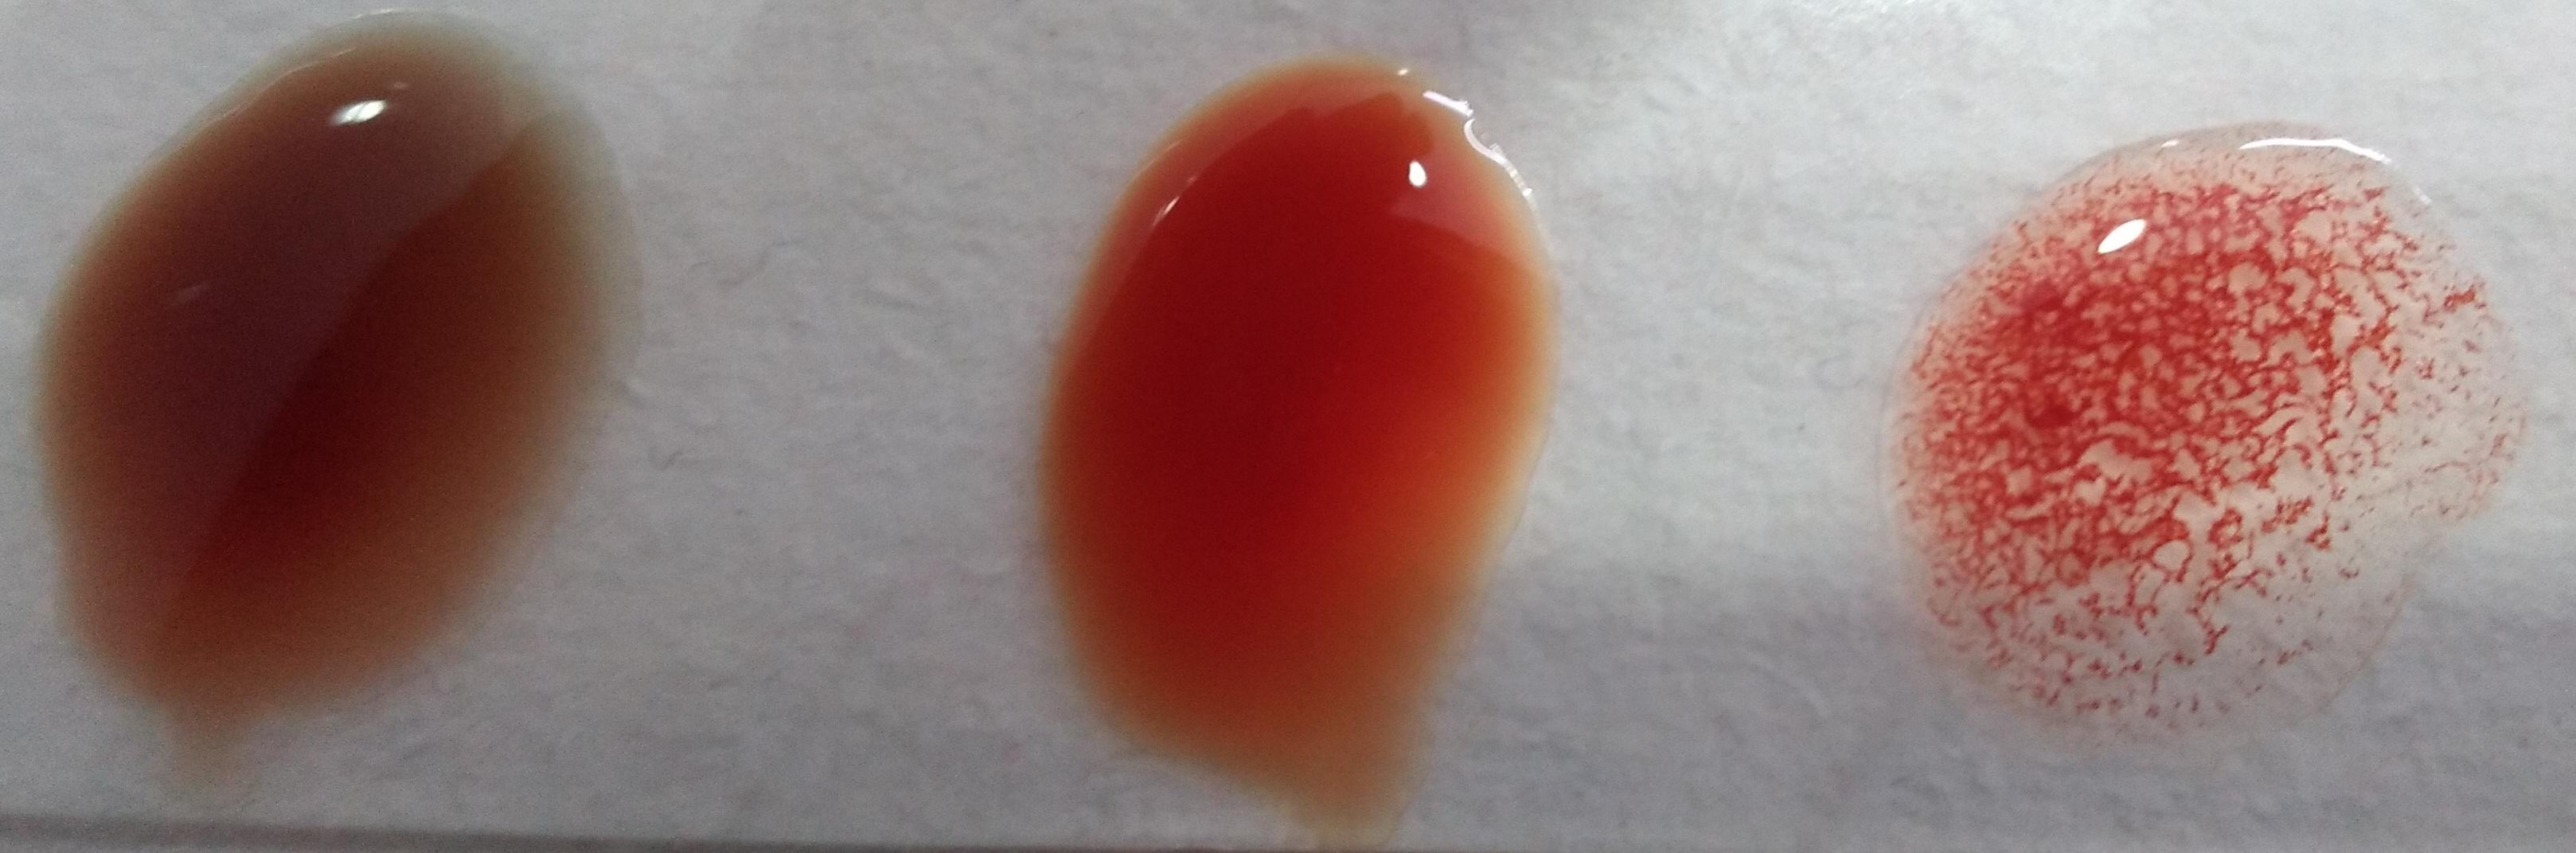D: (1898, 138, 2492, 748)
